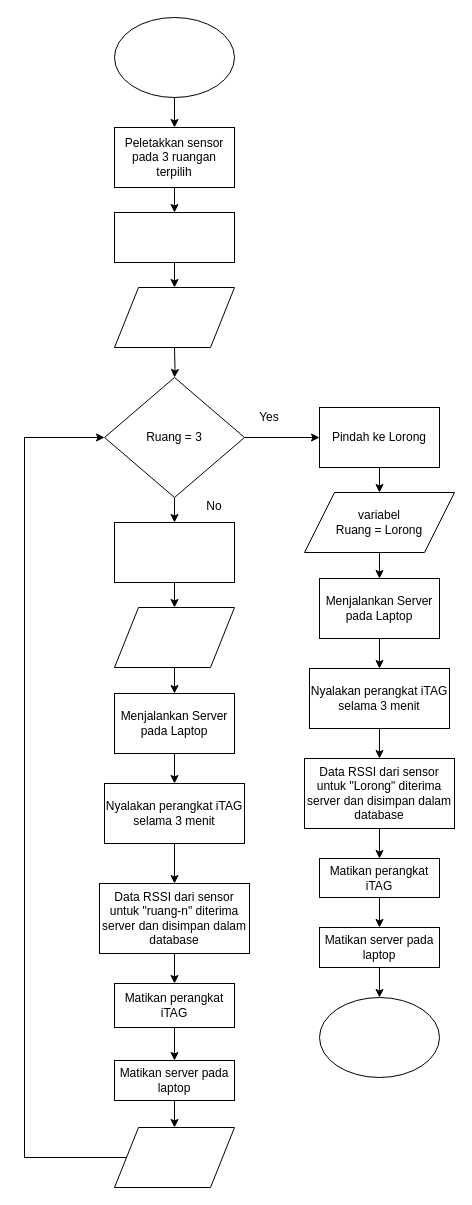
Image size: 472x1205. Some labels were removed from this diagram. Here are the shapes that lost their labels. From the top down, the centre of each, then its label:
At [174,57]: "START".
At [174,237]: "Menyalakan hotspot HP Android".
At [174,317]: "Ruang = 1".
At [174,552]: "Pindah ke Ruang-n".
At [174,637]: "variabel Ruang = n".
At [379,1037]: "STOP".
At [174,1157]: "Ruang++".
